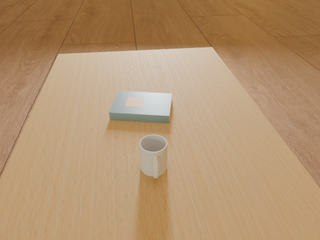book: (109, 91, 172, 123)
cup: (140, 135, 167, 178)
